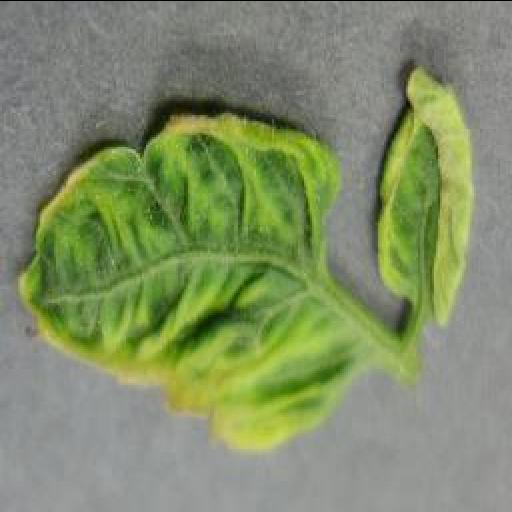disease_tomato: (18, 110, 368, 452), (373, 62, 475, 318)
